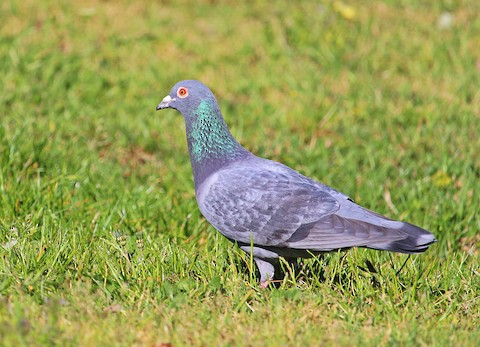pigeon: (151, 75, 443, 298)
